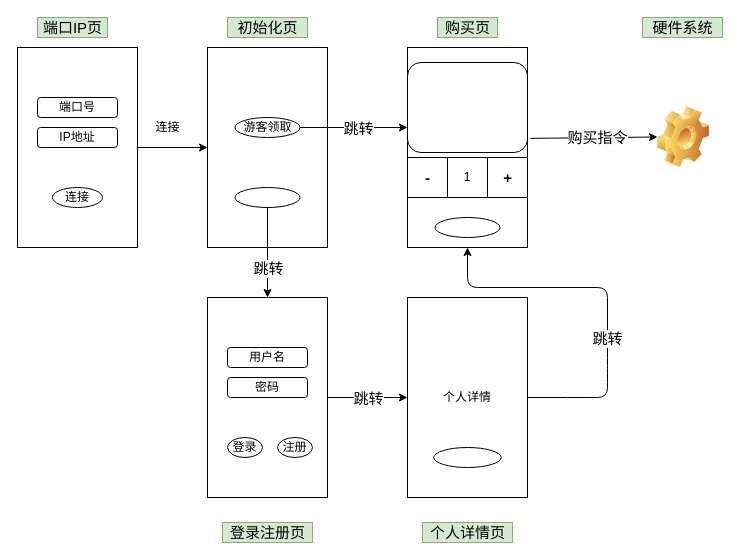
Some shapes in this 740 by 560 pixel diagram are drawn without their labels. Here are the shapes that lost their labels. From the top down, the centre of each, then its label:
At pixel 467 107: "口罩海报".
At pixel 267 197: "登录领取".
At pixel 467 227: "购买/领取".
At pixel 467 457: "购买入口".
